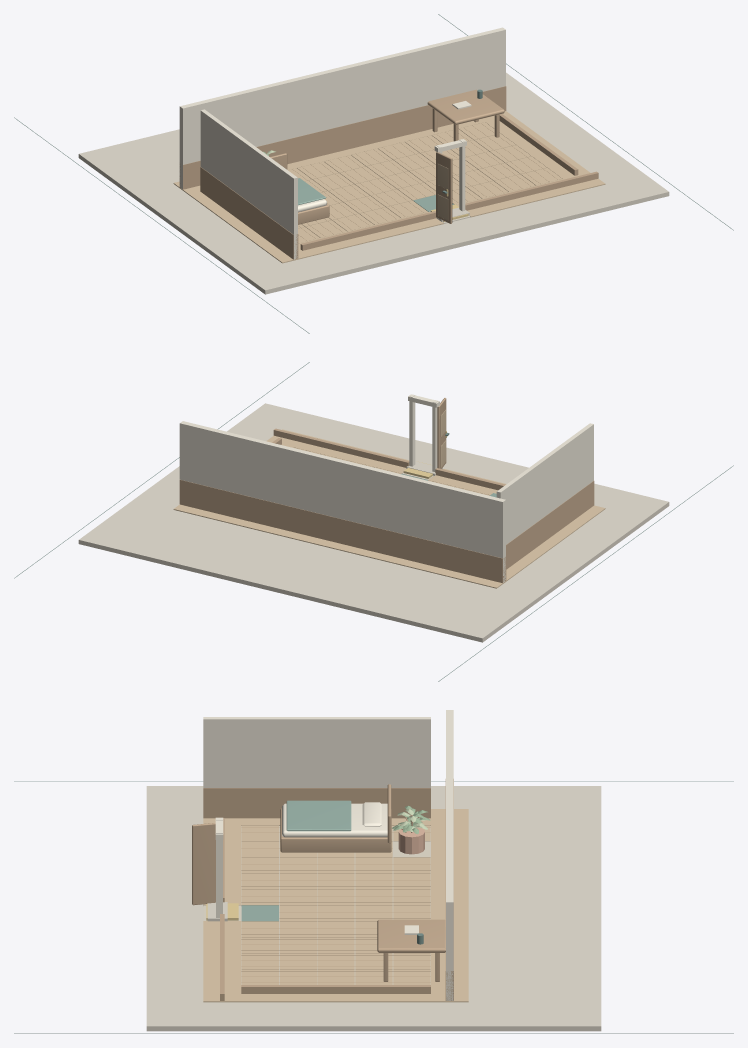
Rendered from room.glb.
3 views of the same model, one above another, from view 1: azimuth 30°, elevation 25°; view 2: azimuth 150°, elevation 25°; view 3: azimuth 270°, elevation 25° (orthographic). The views are drawn at different scales.
Visible parts, largest first — view 1: building slab, cutaway wall, wall foundation, wainscot, open book, surrounding corridor seam, ground.045; view 2: building slab, cutaway wall, wainscot, wall foundation, open book, surrounding corridor seam; view 3: building slab, wall foundation, cutaway wall, wainscot, open book, ground.045, surrounding corridor seam, terracotta planter, individual ficus leaves.
Boxes of the visible parts, x1=… form: building slab: x1=78, y1=72, x2=669, y2=294; cutaway wall: x1=179, y1=27, x2=505, y2=259; wall foundation: x1=173, y1=111, x2=605, y2=263; wainscot: x1=179, y1=86, x2=598, y2=259; open book: x1=298, y1=101, x2=471, y2=212; surrounding corridor seam: x1=14, y1=14, x2=733, y2=333; ground.045: x1=298, y1=178, x2=453, y2=211; building slab: x1=78, y1=403, x2=669, y2=642; cutaway wall: x1=179, y1=421, x2=593, y2=582; wainscot: x1=179, y1=398, x2=594, y2=583; wall foundation: x1=173, y1=409, x2=605, y2=588; open book: x1=408, y1=394, x2=439, y2=471; surrounding corridor seam: x1=14, y1=362, x2=733, y2=681; building slab: x1=146, y1=786, x2=601, y2=1031; wall foundation: x1=203, y1=809, x2=468, y2=1002; cutaway wall: x1=203, y1=710, x2=453, y2=1000; wainscot: x1=192, y1=779, x2=453, y2=1000; open book: x1=215, y1=802, x2=418, y2=934; ground.045: x1=241, y1=800, x2=351, y2=921; surrounding corridor seam: x1=14, y1=781, x2=733, y2=1033; terracotta planter: x1=398, y1=827, x2=424, y2=854; individual ficus leaves: x1=392, y1=805, x2=430, y2=834.
Size of what is drawn, in the model's own units: 12.62 by 2.45 by 15.2.
